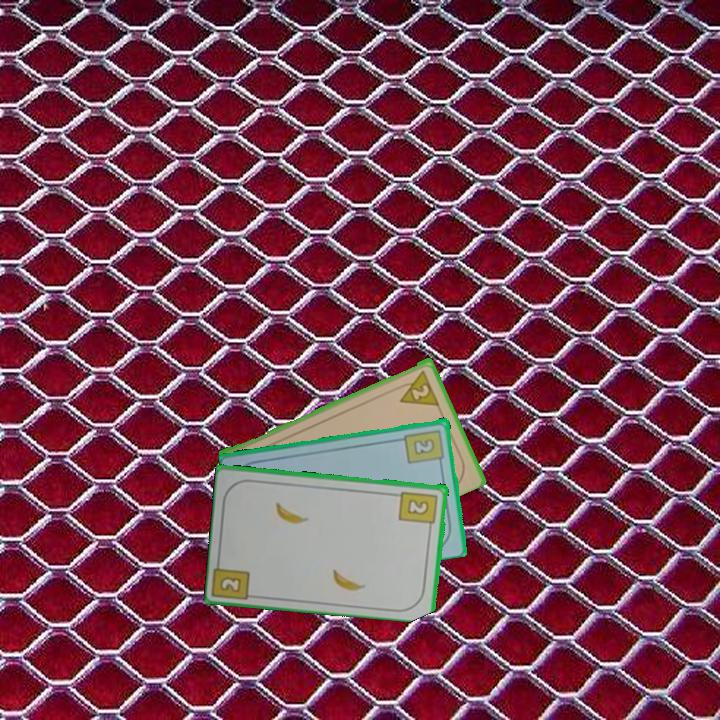2b: (396, 488, 440, 532), (401, 426, 447, 468), (216, 573, 244, 595)
2p: (392, 366, 442, 408)
